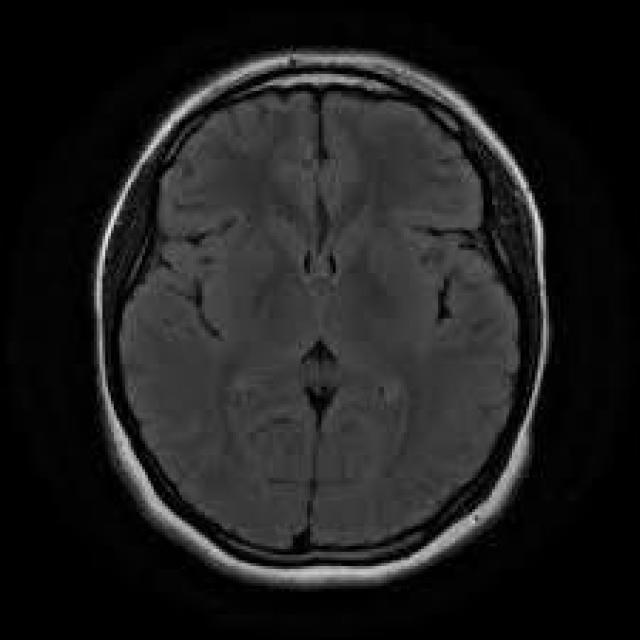notumor: (91, 48, 552, 594)
